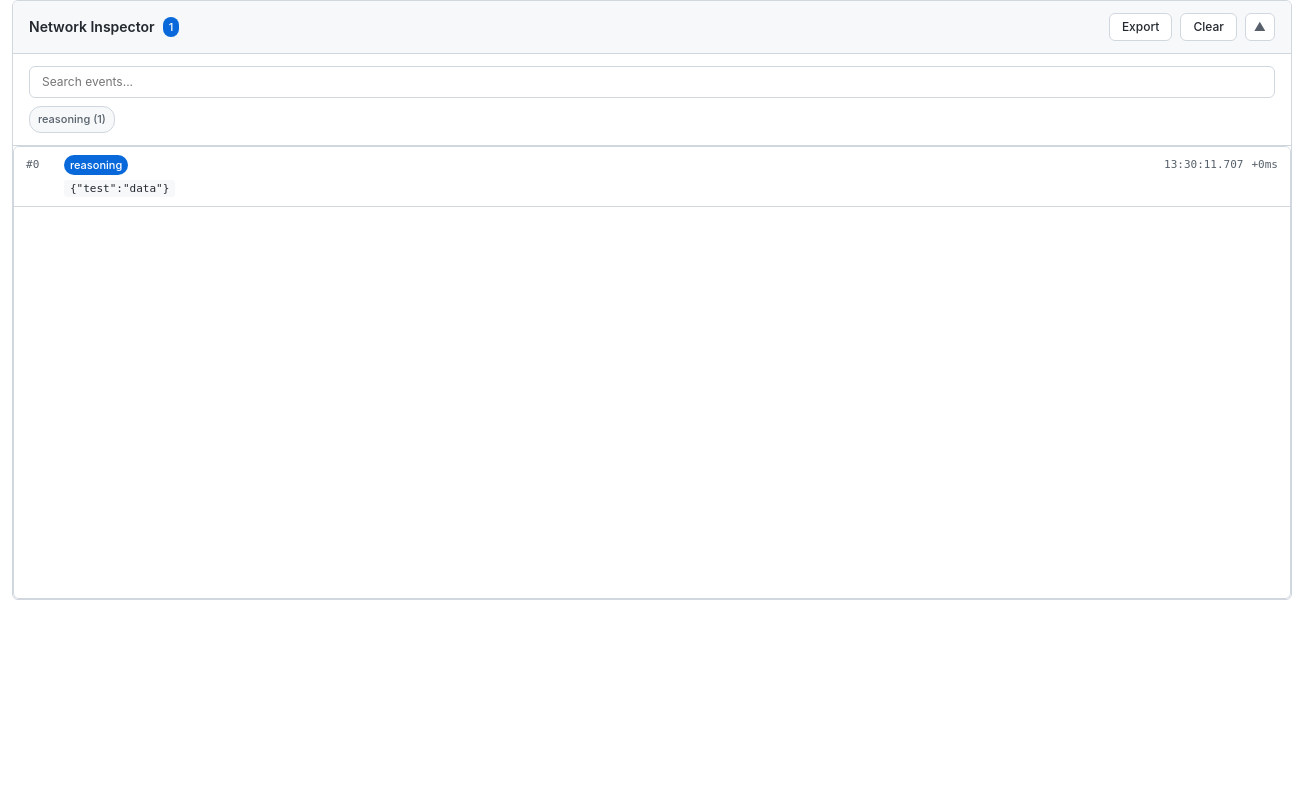
Test case: NetworkInspector › toolbar buttons › should toggle collapse state
The width and height of the screenshot is (1304, 800).
Click the button named "Collapse inspector": (1260, 27) left=1245, top=13, right=1275, bottom=41
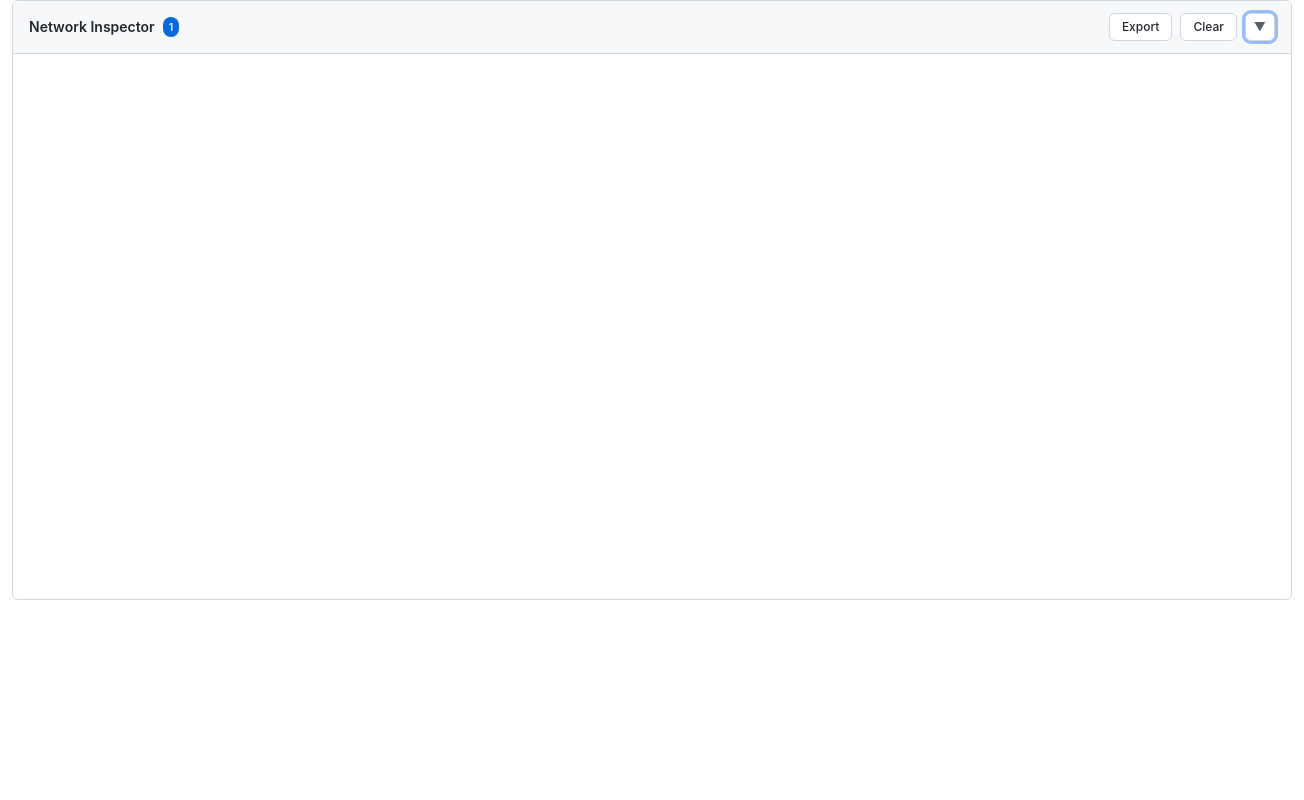
Expected: the field with placeholder "Search events..." is not shown
Result: the button named "Expand inspector" is shown at left=1245, top=13, right=1275, bottom=41
